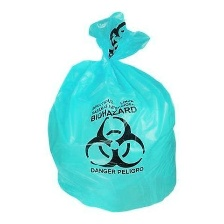plastic_bag: (40, 11, 188, 218)
